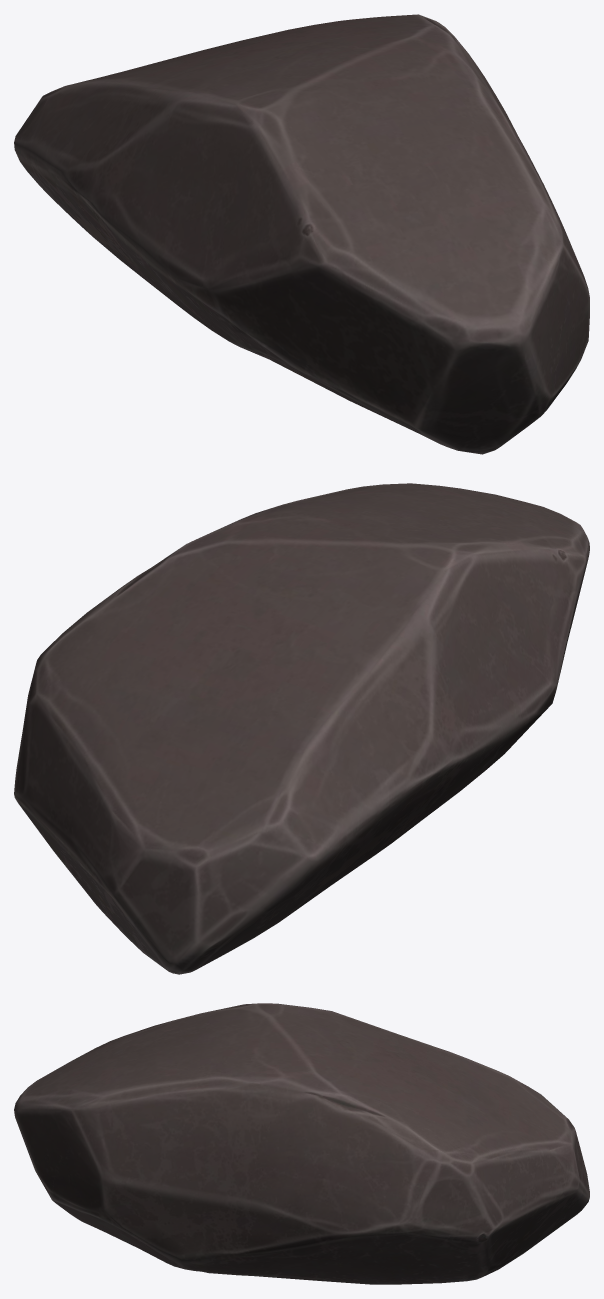
File: obsidian_cracked_b.glb
3 renders of one model, top to bottom at view 1: azimuth 30°, elevation 25°; view 2: azimuth 150°, elevation 25°; view 3: azimuth 270°, elevation 25°, orthographic. The views are drawn at different scales.
Parts seen in each view (by area): view 1: SM_KC_Base_Stone_Small_01_B; view 2: SM_KC_Base_Stone_Small_01_B; view 3: SM_KC_Base_Stone_Small_01_B.
Part boxes in pixels (<box>): SM_KC_Base_Stone_Small_01_B: <box>14,14,589,454</box>; SM_KC_Base_Stone_Small_01_B: <box>14,483,589,974</box>; SM_KC_Base_Stone_Small_01_B: <box>14,1003,589,1284</box>.
Bounding box in the file's own units: 0.4563 × 0.3467 × 0.8075.
1 material, 1 textured.
